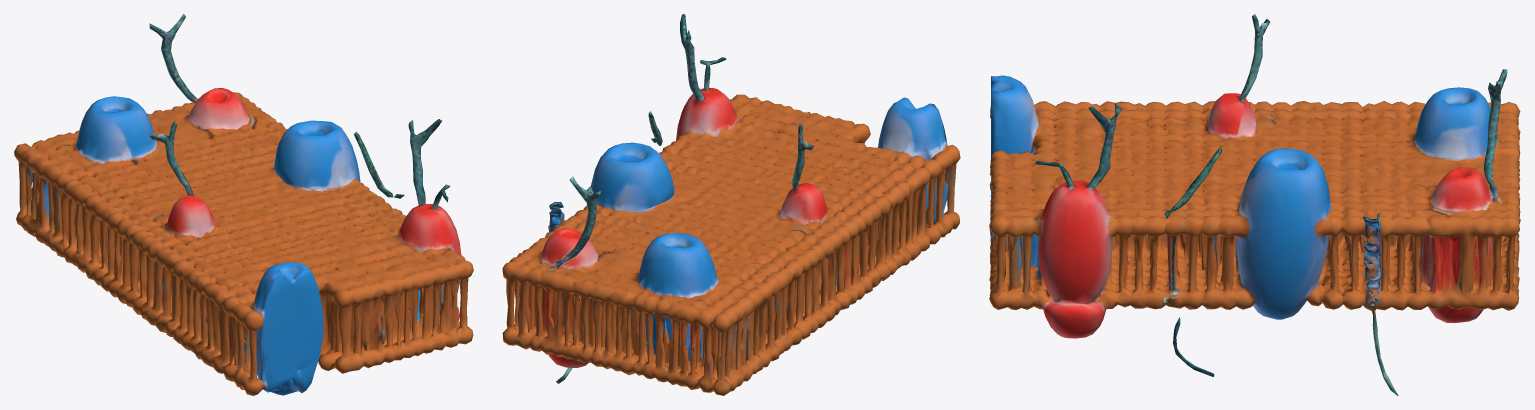
The model's file is d12d01ca-bbe3-4b4c-a272-1c441f605515.glb.
3 views of the same model, side by side, from view 1: azimuth 30°, elevation 25°; view 2: azimuth 150°, elevation 25°; view 3: azimuth 270°, elevation 25° (orthographic). The views are drawn at different scales.
Visible parts, largest first — view 1: tripo_node_20999eb3-7edb-4309-b1dd-bb147b4bd555; view 2: tripo_node_20999eb3-7edb-4309-b1dd-bb147b4bd555; view 3: tripo_node_20999eb3-7edb-4309-b1dd-bb147b4bd555.
Boxes of the visible parts, x1,y1,x2,y2 form: tripo_node_20999eb3-7edb-4309-b1dd-bb147b4bd555: (14, 14, 473, 395); tripo_node_20999eb3-7edb-4309-b1dd-bb147b4bd555: (502, 14, 960, 395); tripo_node_20999eb3-7edb-4309-b1dd-bb147b4bd555: (989, 14, 1520, 395).
Bounding box in the file's own units: 0.5938 × 0.6161 × 1.
Materials: 1 (1 with a texture image).
